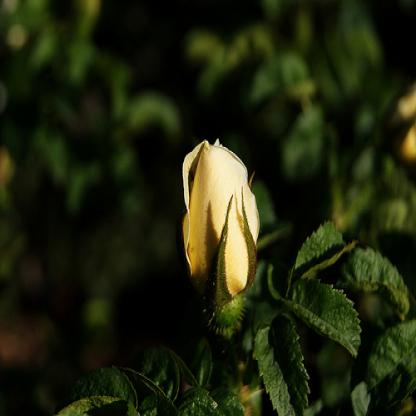ROSE-MAWAR: (174, 107, 264, 326)
